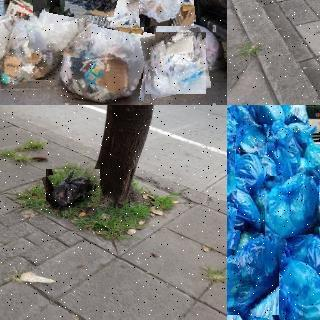Garbage: (59, 10, 153, 105), (0, 11, 67, 84), (227, 230, 282, 317), (143, 30, 209, 97), (261, 172, 320, 238), (30, 0, 89, 56), (270, 258, 320, 320), (45, 166, 103, 210), (122, 0, 195, 27), (268, 119, 306, 170), (89, 0, 140, 31), (234, 122, 269, 156), (46, 0, 117, 16), (249, 105, 285, 125)
